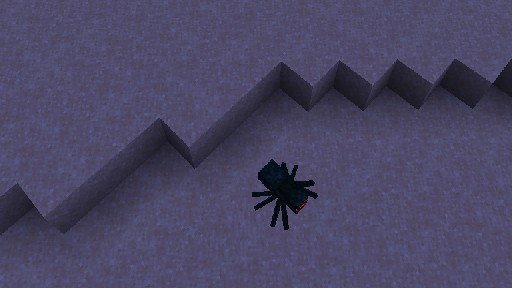cave_spider: (251, 158, 317, 229)
